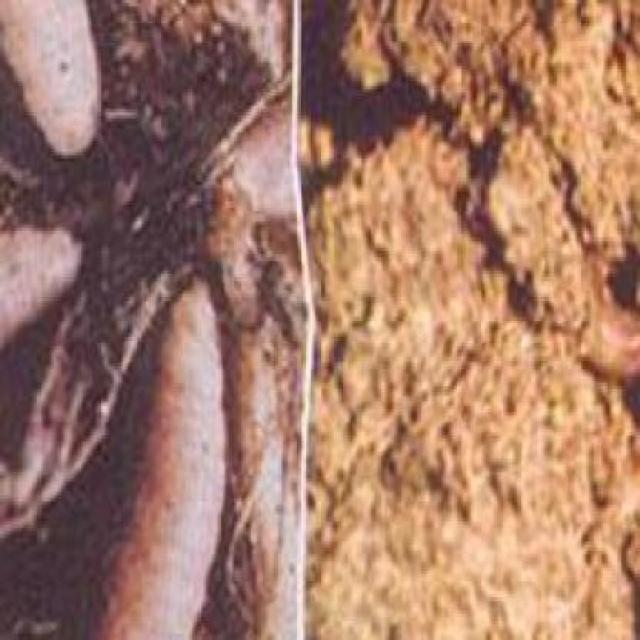whorl-maggot: (97, 279, 233, 638)
